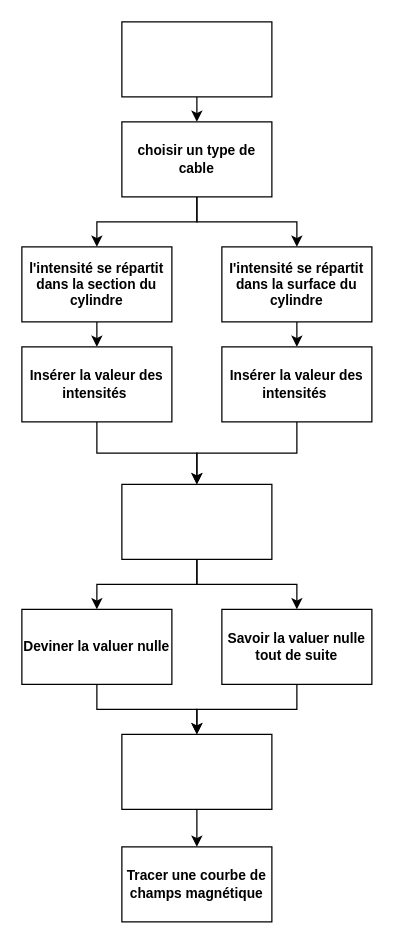
This 394x944 diagram has some shape labels left out. Each missing label, with the box of its shape:
Calculer des valeurs de champs magnétique et faire la somme: (121, 483, 272, 559)
Définir quand la valuer est nulle: (121, 733, 272, 809)
Insérer la valeur de 1er et 2ème rayon: (121, 21, 272, 97)
